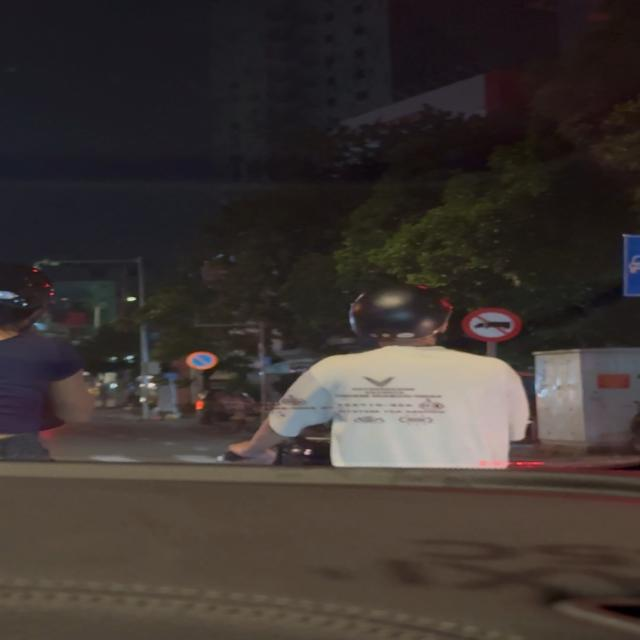Bien bao cam do xe: (182, 351, 221, 372)
Bien bao cam xe so-mi ro-mooc: (458, 305, 531, 344)
